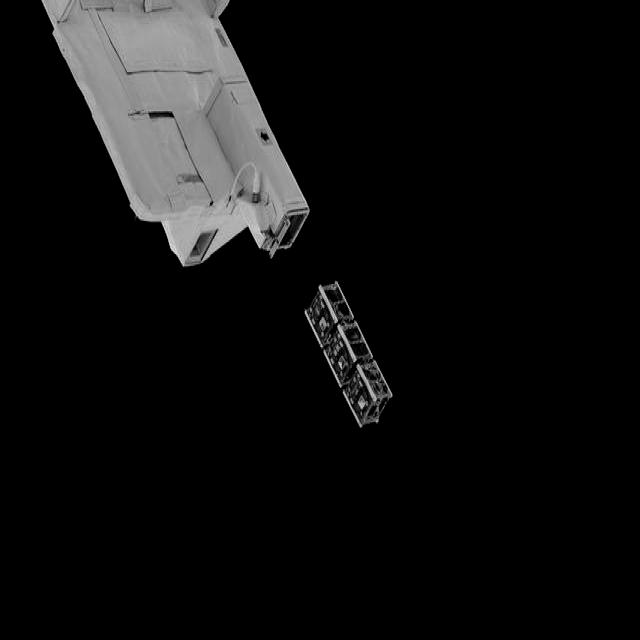satellite: (44, 0, 309, 266), (296, 240, 406, 468)
